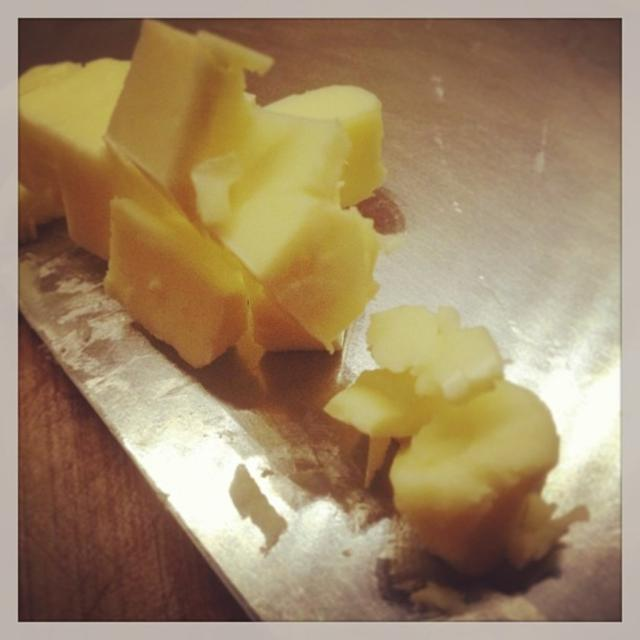Cheese: (18, 20, 384, 359), (324, 304, 591, 590)
